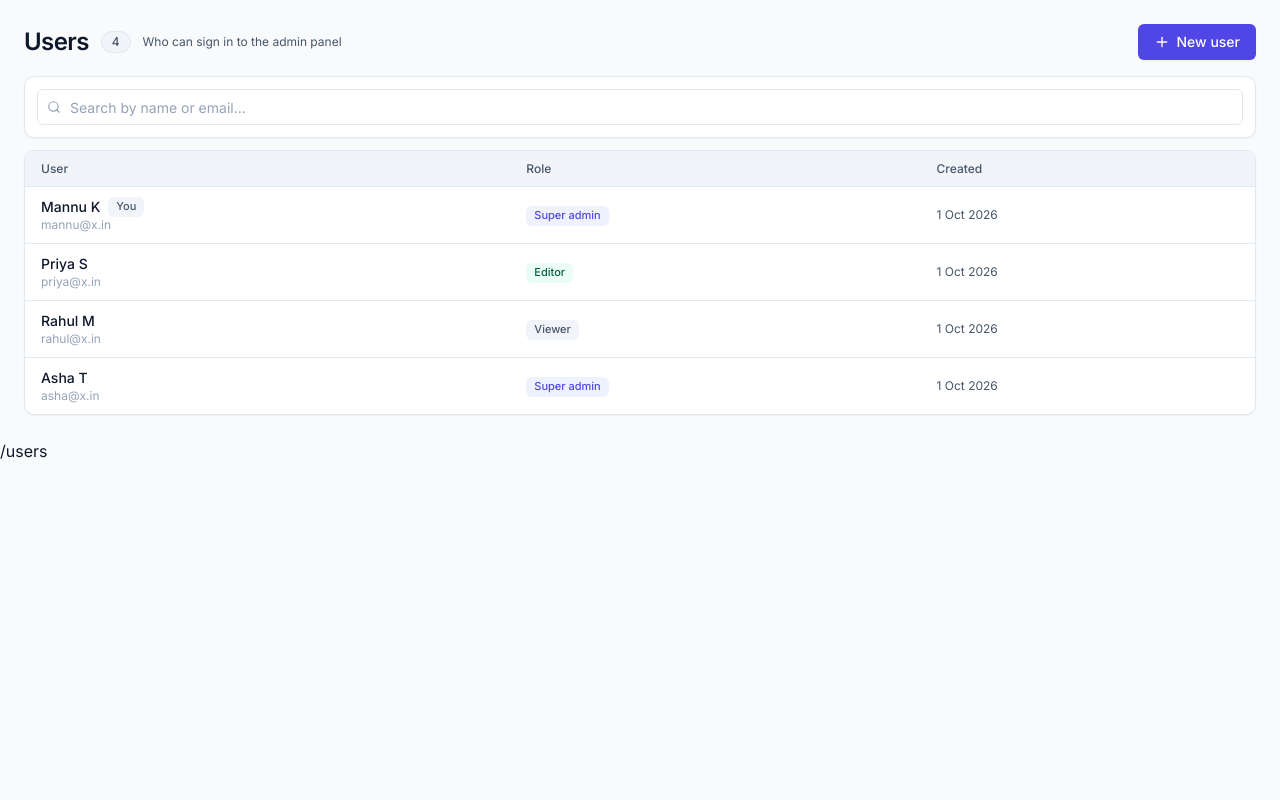
Test: Users page › create: checks fields first; a duplicate email (409) shows under Email with no toast
The image size is (1280, 800).
Click the button "New user" at (1197, 42), box [1138, 24, 1256, 60]
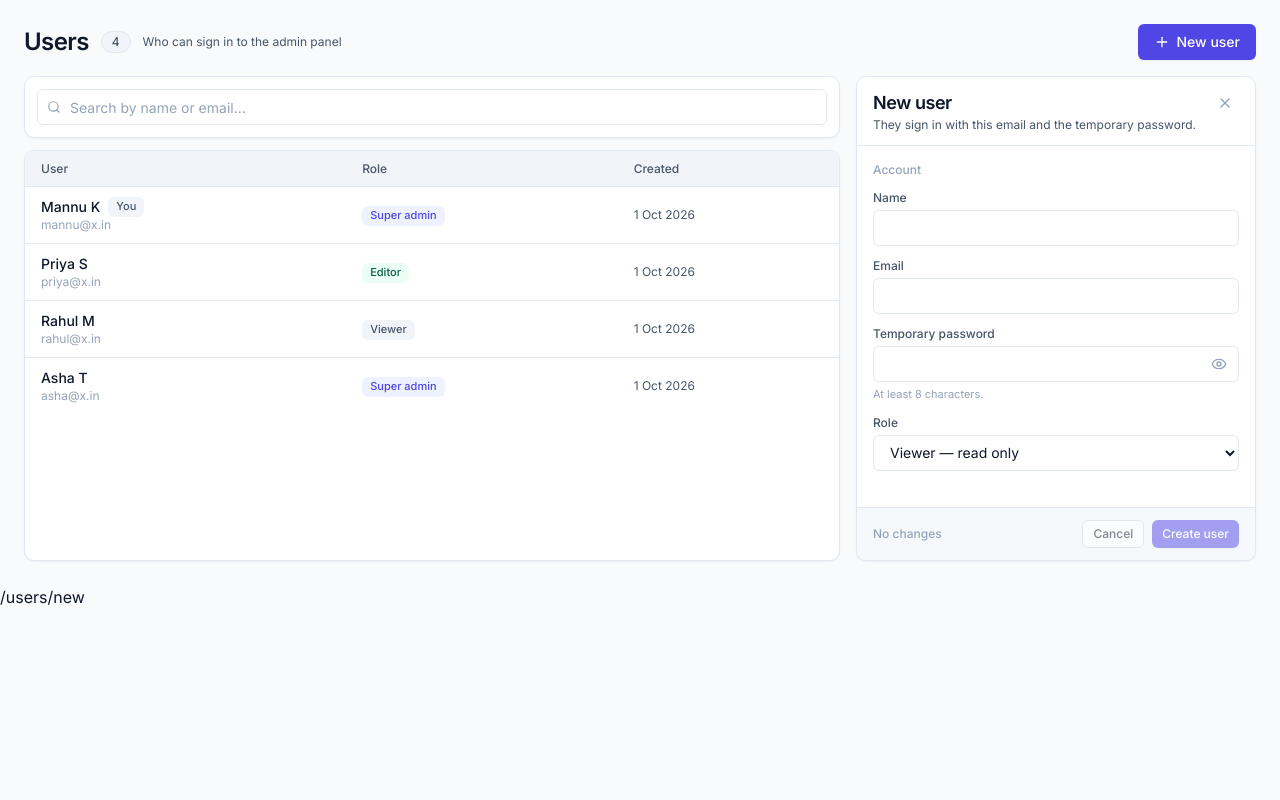
Expected: the text with test id "where" reads "/users/new", [0, 586, 85, 606]
Type "Sunita Y" into the field labelled "Name" at (1056, 228), box [873, 210, 1239, 246]
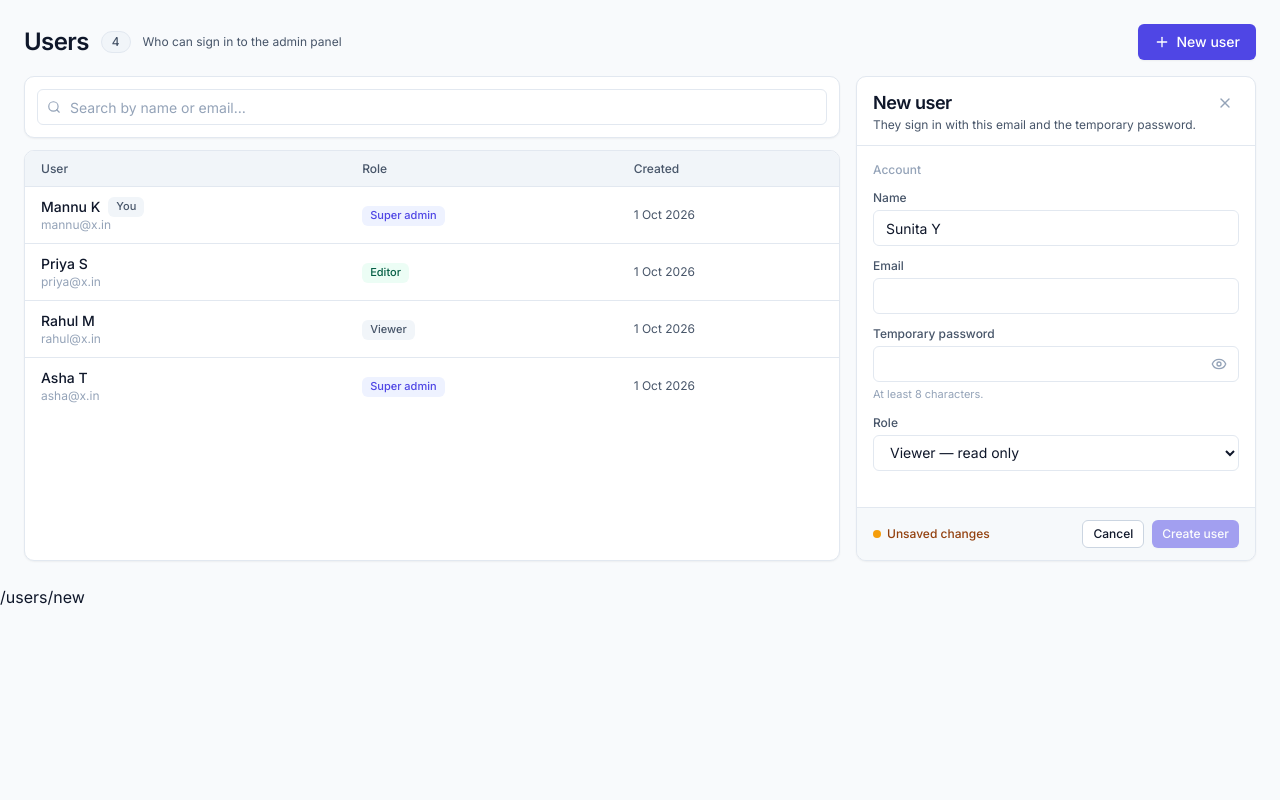
Type "priya@x.in" into the field labelled "Email" at (1056, 296), box [873, 278, 1239, 314]
Type "short" into the password field labelled "Temporary password" at (1056, 364), box [873, 346, 1239, 382]
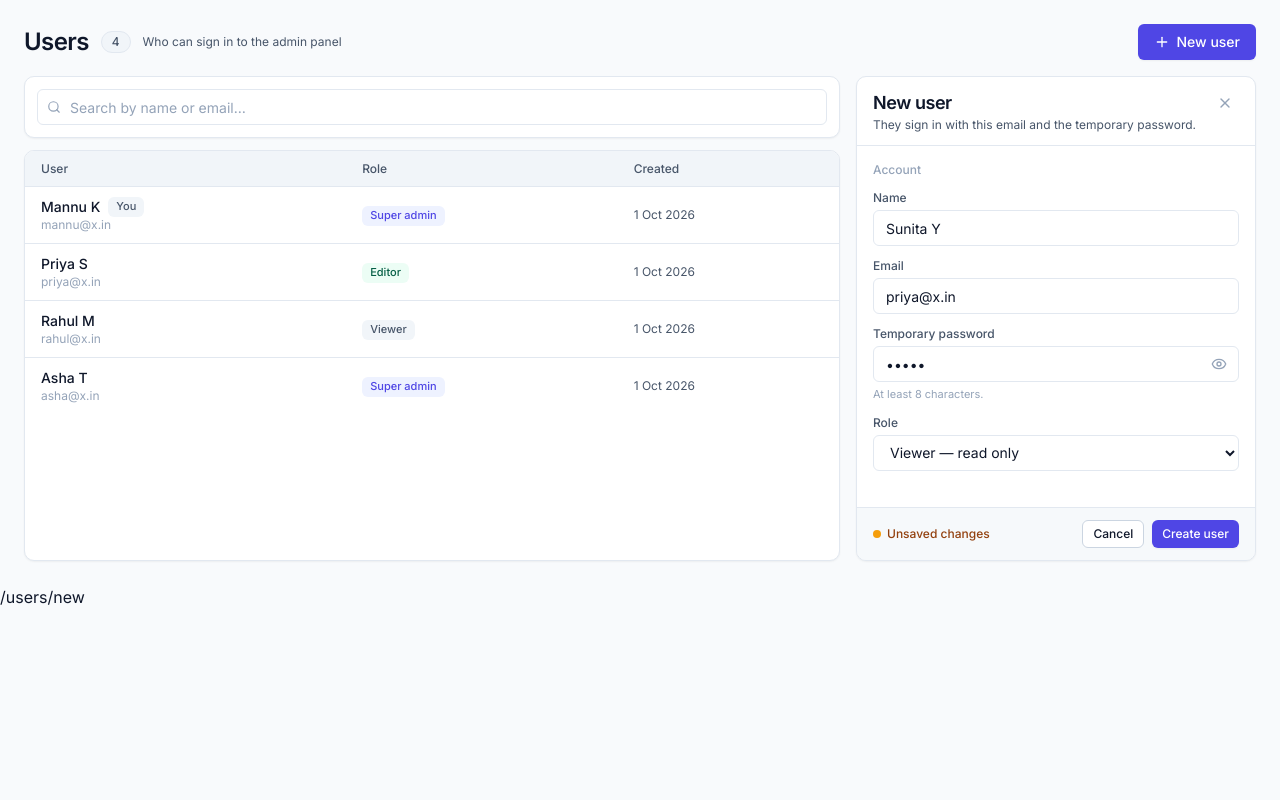
Click the button "Create user" at (1196, 534), box [1152, 520, 1239, 548]
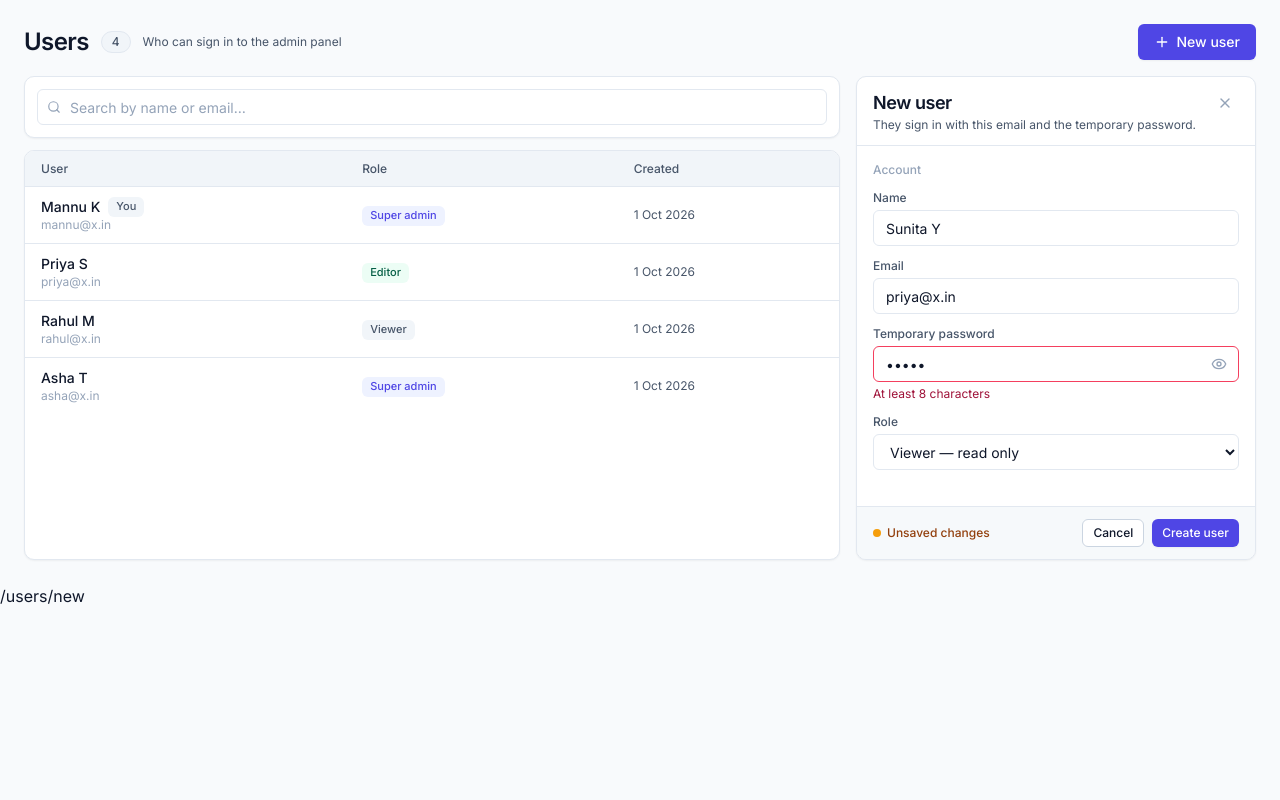
Expected: the text "At least 8 characters" is shown, [873, 386, 990, 401]
Type "long-enough-1" into the password field labelled "Temporary password" at (1056, 364), box [873, 346, 1239, 382]
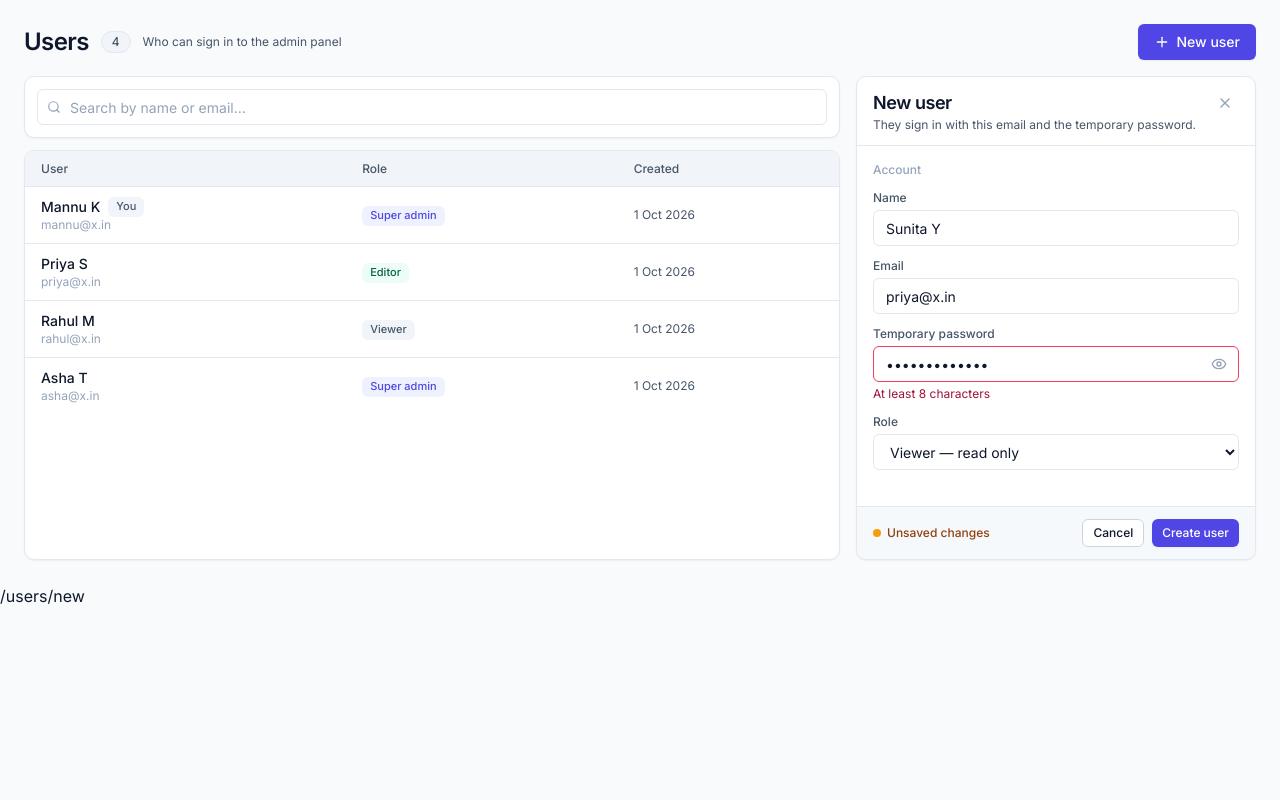
Click the button "Create user" at (1196, 533), box [1152, 519, 1239, 547]
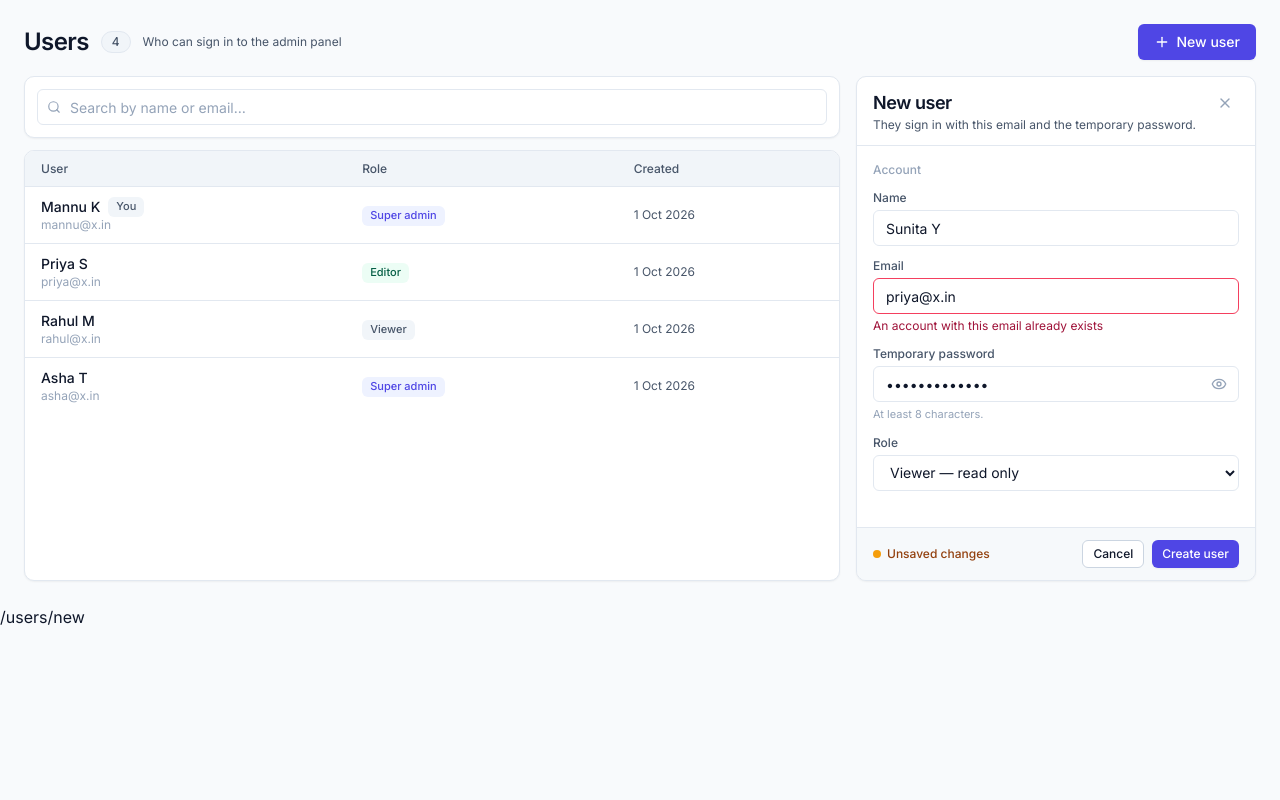
Expected: the text "An account with this email already exists" is shown, [873, 318, 1103, 333]
